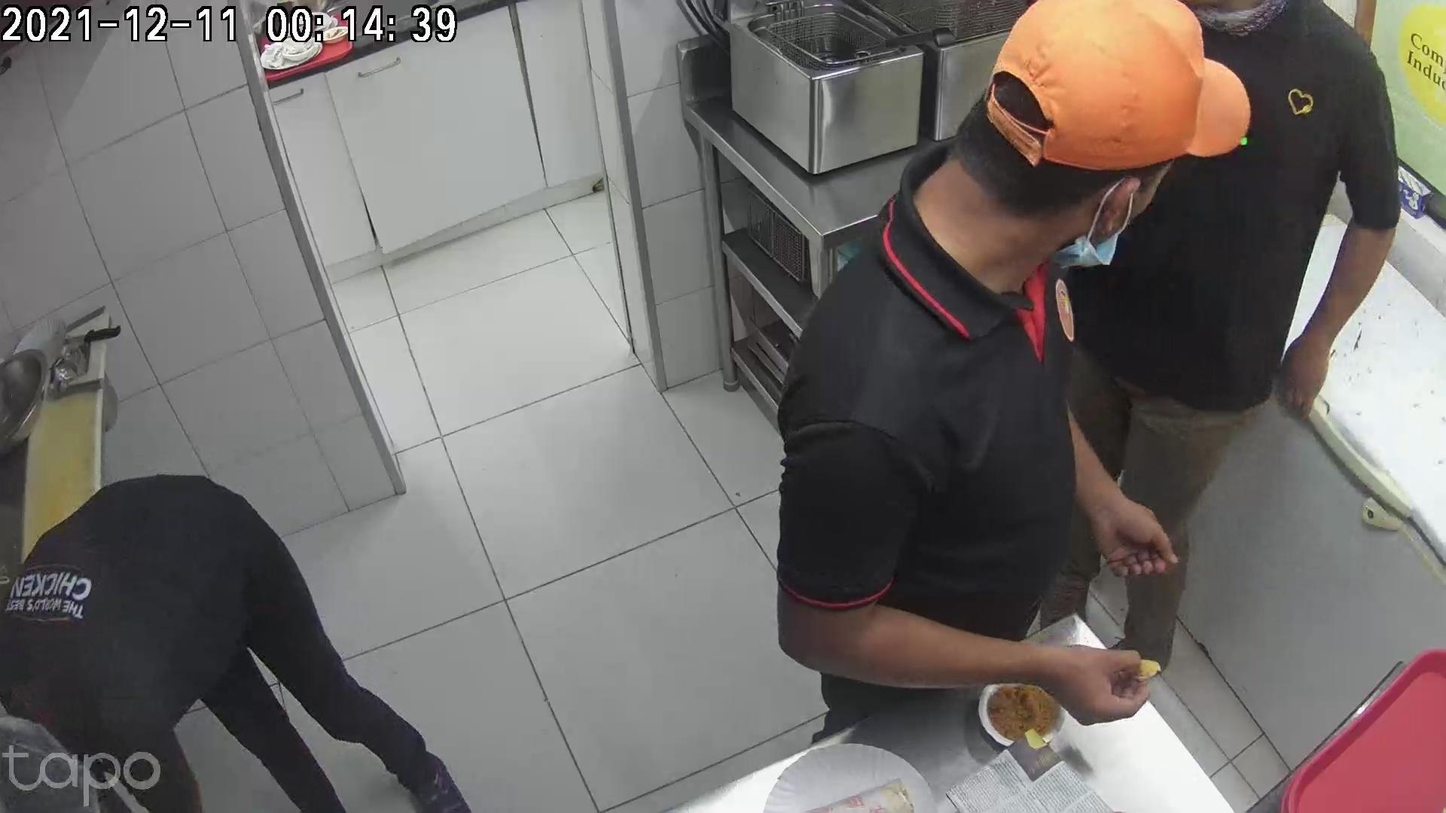no_gloves: (954, 439, 1011, 563)
